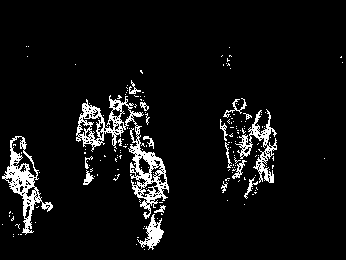person: (1, 134, 52, 235), (129, 134, 169, 251), (236, 107, 279, 200), (219, 95, 253, 197), (74, 99, 107, 185), (102, 92, 126, 185), (124, 77, 149, 142)
